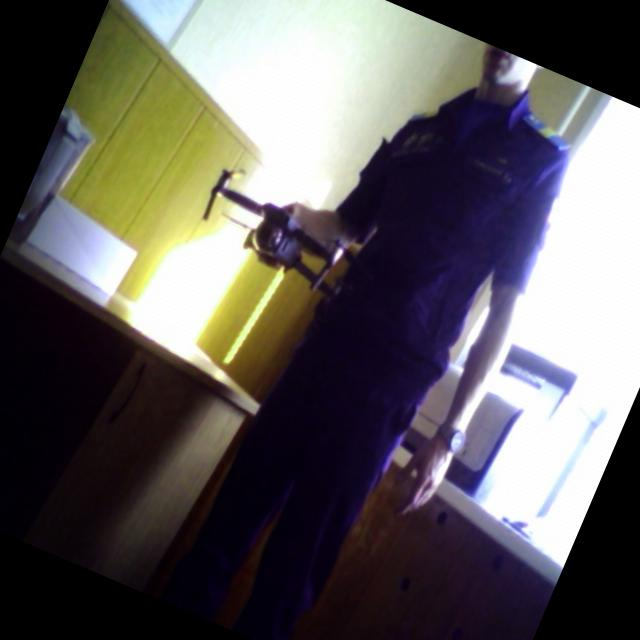drone: (166, 151, 395, 330)
